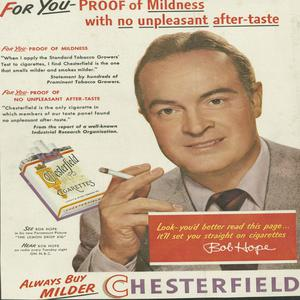cigarette: (96, 166, 142, 184)
